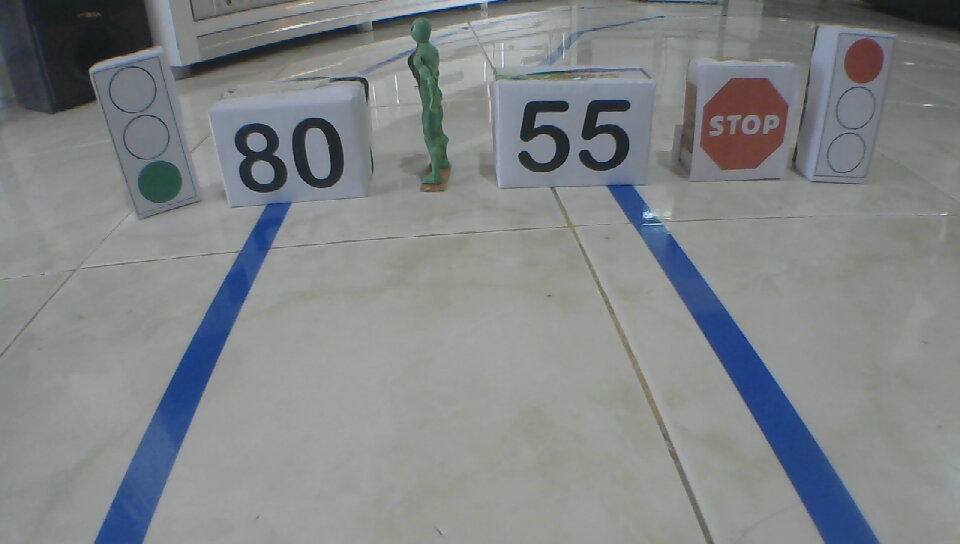Green Light: (107, 64, 184, 207)
Person: (403, 16, 454, 187)
Red Light: (824, 37, 884, 174)
Speed 55: (511, 98, 638, 176)
Speed 80: (233, 117, 346, 195)
Stop: (698, 78, 787, 172)
